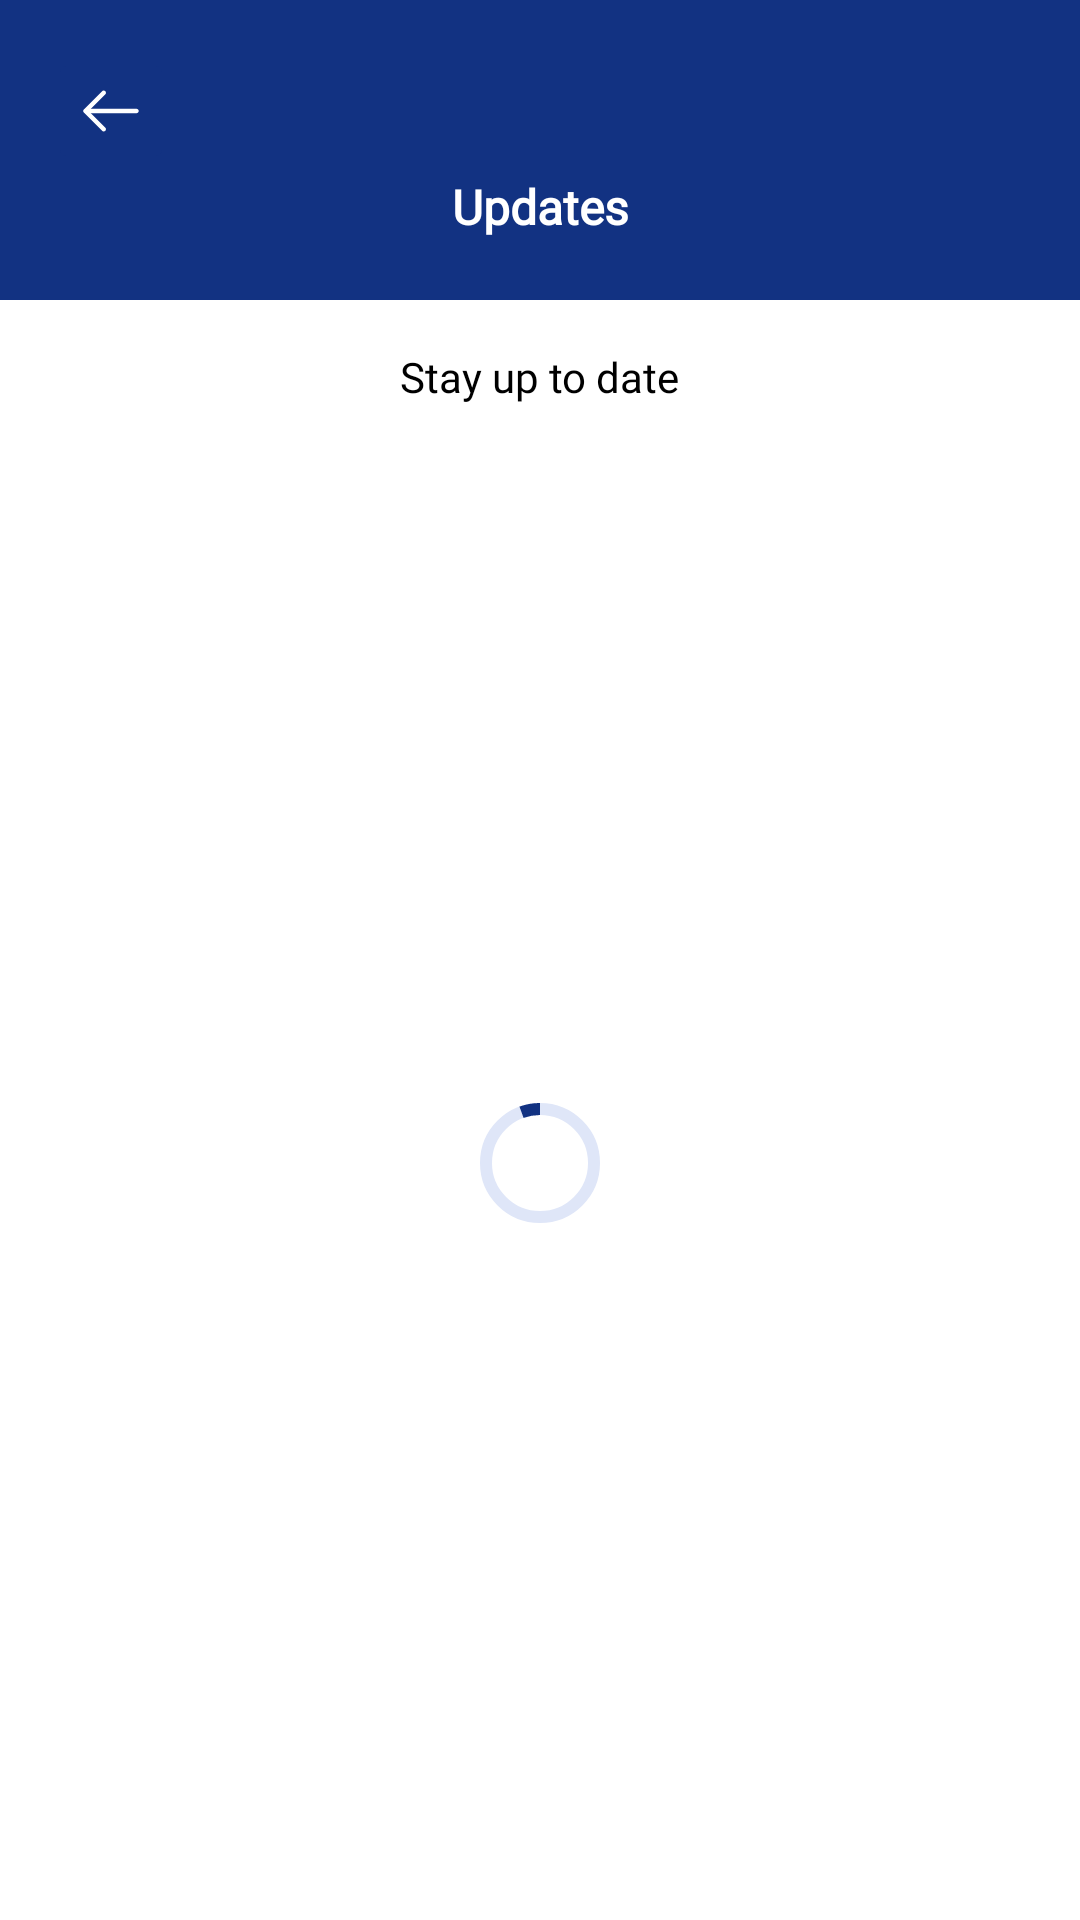

Where icons sit on this 1080×1920 app screen, as (x1,y1,x2,y2):
arrow left: (83,90,139,132)
